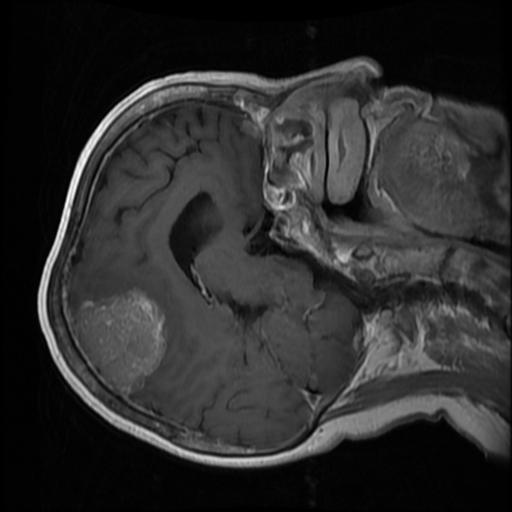meningioma: (73, 287, 169, 391)
